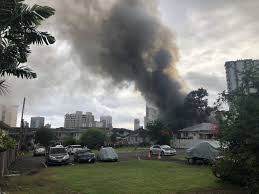smoke: (57, 1, 191, 112)
